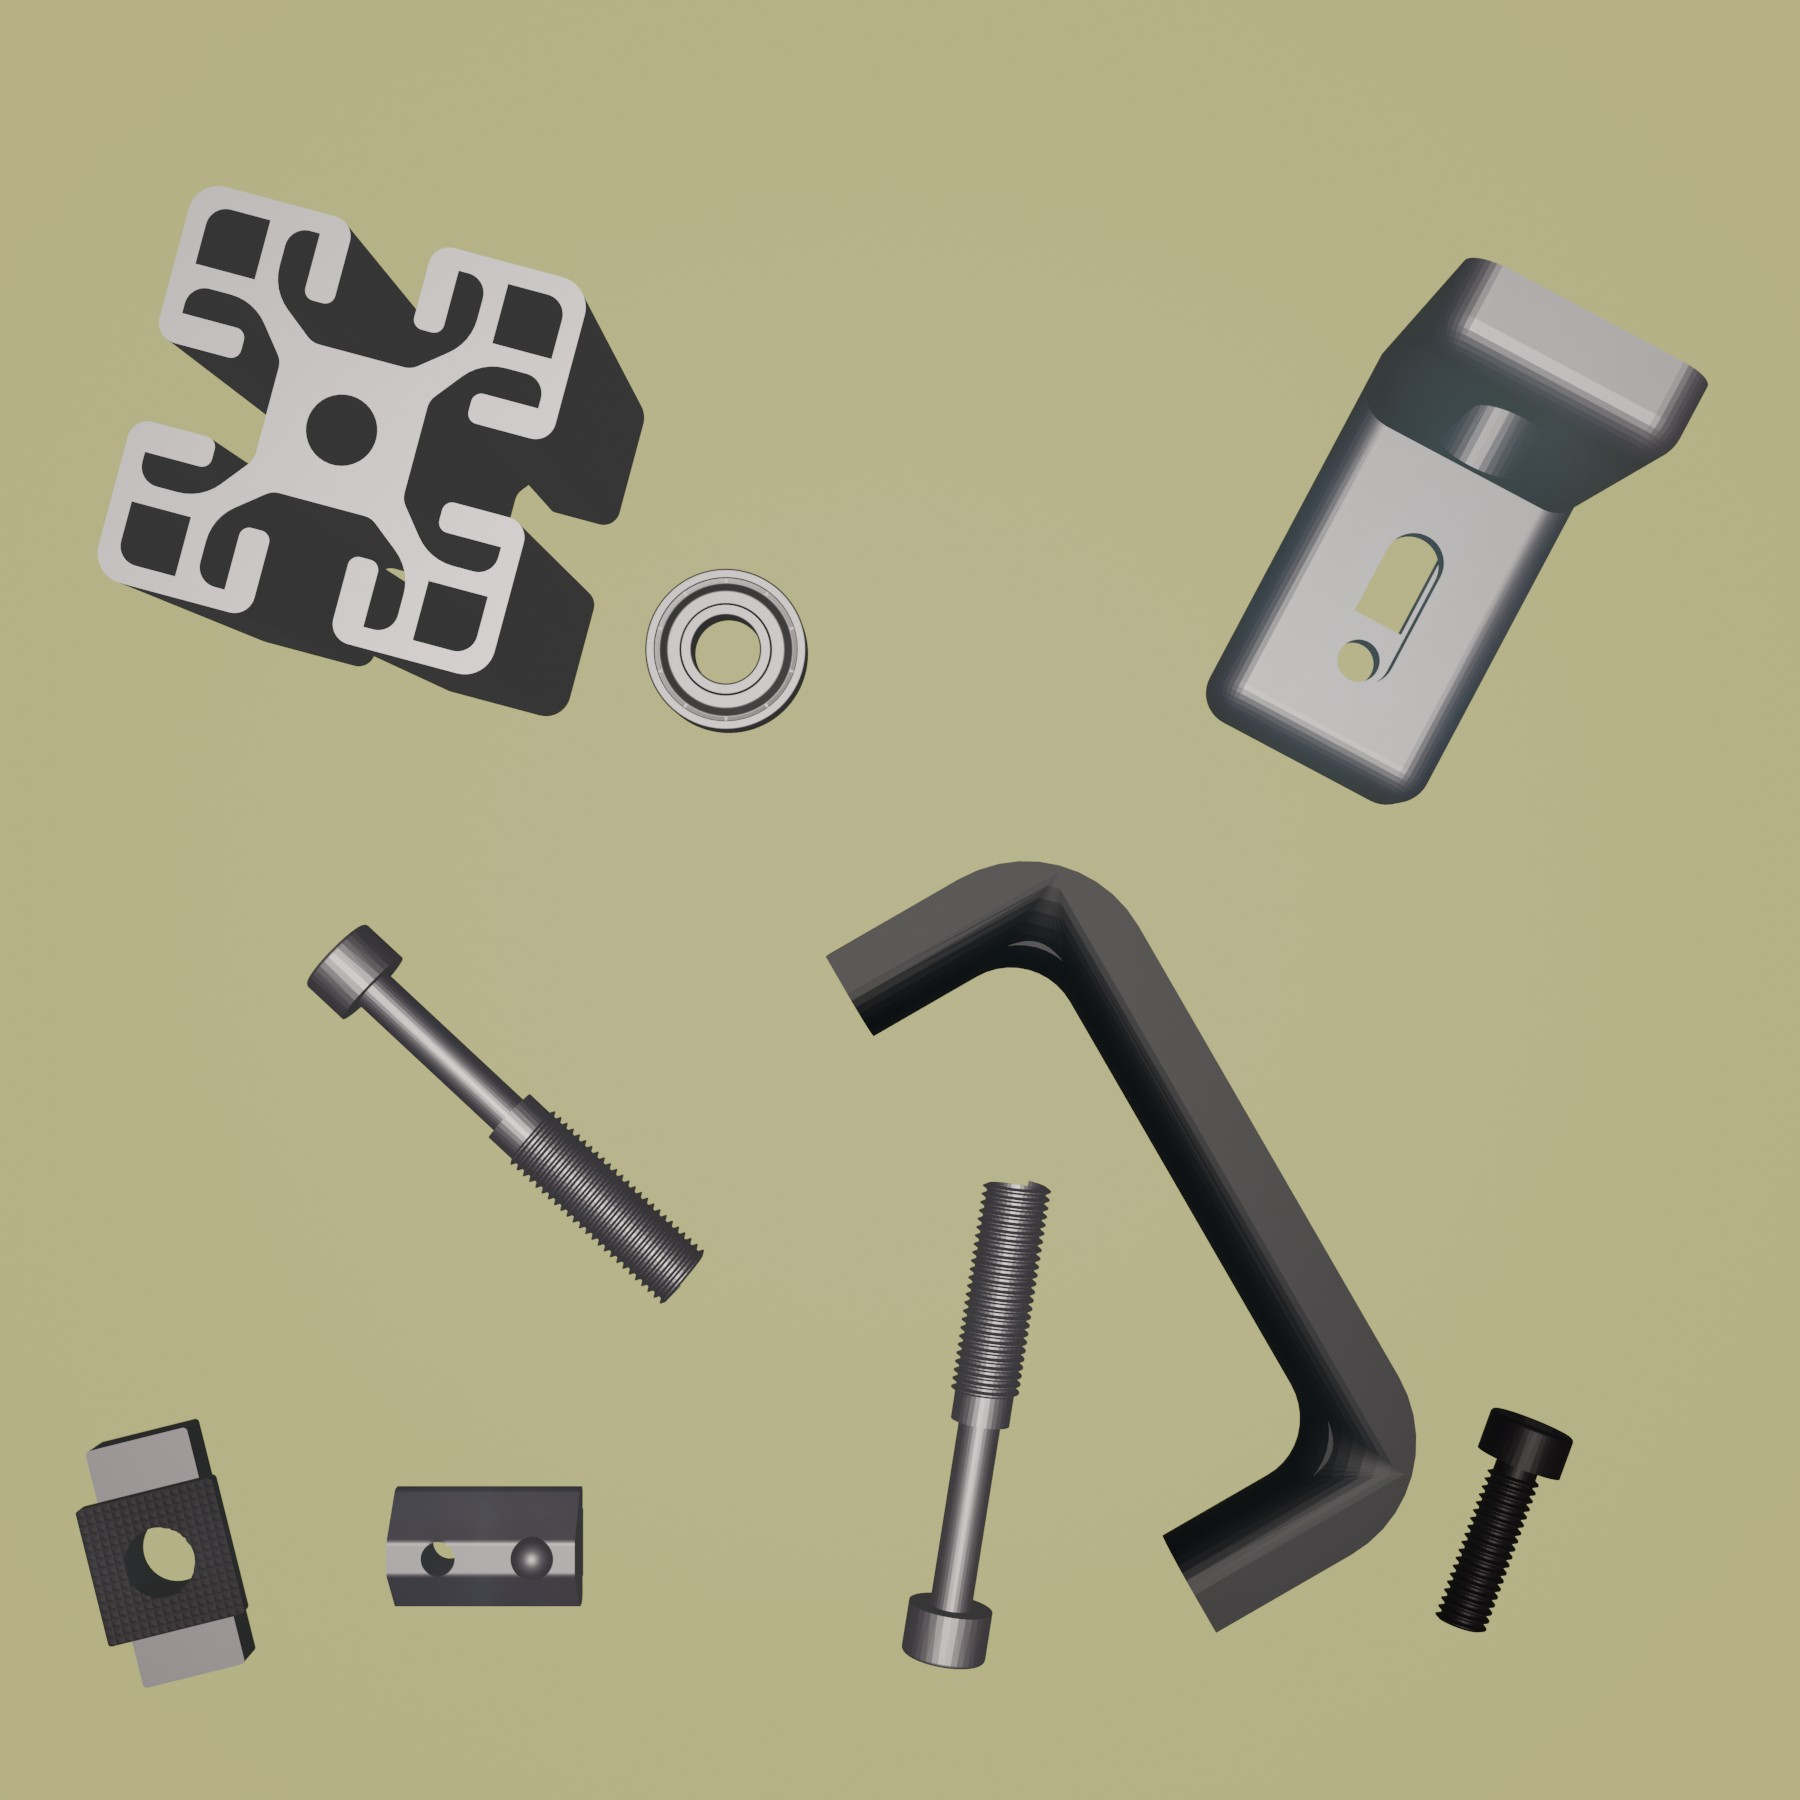Aluminium Extension: (94, 181, 646, 720)
Ball Bearing: (645, 565, 811, 735)
Multiwinkel: (1203, 257, 1709, 808)
Pull Handle: (823, 859, 1418, 1638)
Shoulder Socket Head Cap Screw: (303, 923, 705, 1305), (902, 1175, 1052, 1673)
Socket Head Cap Screw: (1432, 1404, 1576, 1637)
T Nut Square: (73, 1414, 259, 1691)
T Spring Nut: (381, 1482, 588, 1609)
